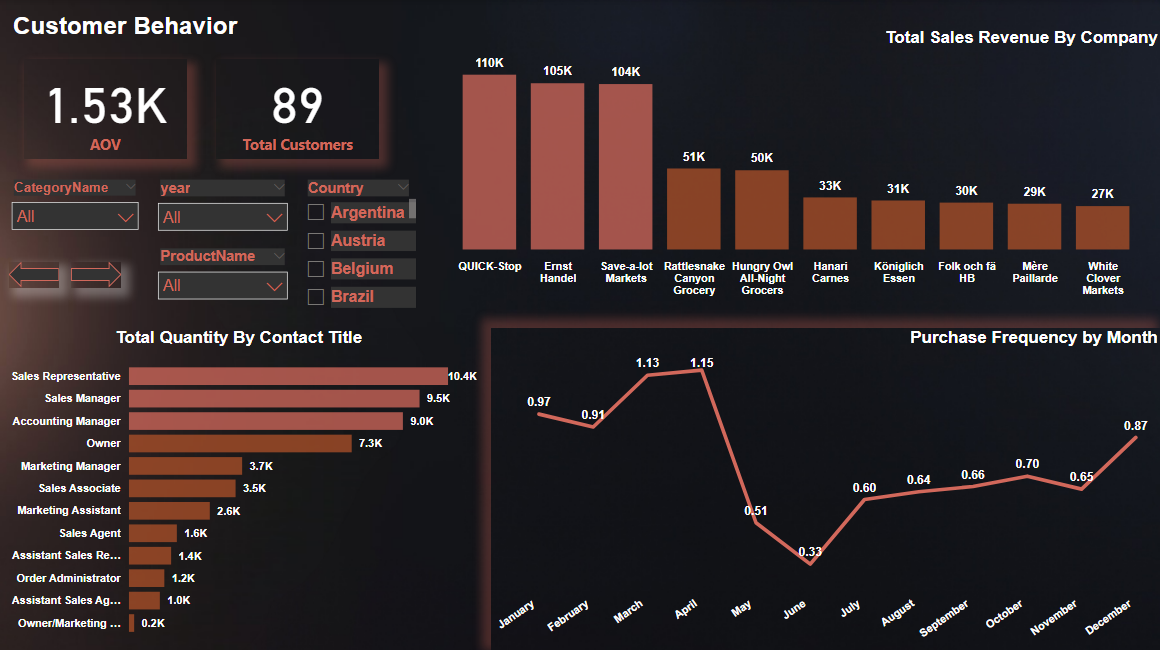

What the dashboard file says about the page in this screenshot:
{"tool":"powerbi","page":{"name":"Customer","canvas":[1280,720],"ordinal":1},"visuals":[{"type":"columnChart","title":"Total Sales Revenue By Company ","fields":{"Category":["Customers.CompanyName"],"Y":["Orders.Total Sales Revenue by company"]},"box":[466.1,31.4,813.9,303.6],"z":0},{"type":"card","fields":{"Values":["Count(Orders.CustomerID)"]},"box":[240.9,65.6,179.6,109.8],"z":1000},{"type":"clusteredBarChart","title":"Total Quantity By Contact Title","fields":{"Y":["Sum(OrdersDetails.Quantity)"],"Category":["Customers.ContactTitle"]},"box":[0,360.6,533.1,349.2],"z":2000},{"type":"textbox","box":[14.3,10,272.2,42.8],"z":3000},{"type":"card","fields":{"Values":["OrdersDetails.Average Order Value"]},"box":[29.9,65.6,179.6,109.8],"z":4000},{"type":"lineChart","fields":{"Y":["Orders.Purchase Frequency"],"Category":["Calender.Date.Variation.Date Hierarchy.Month"]},"box":[543.1,360.6,736.9,359.2],"z":5000},{"type":"slicer","fields":{"Values":["Product.ProductName"]},"box":[166.8,269.4,162.5,65.6],"z":6000},{"type":"slicer","fields":{"Values":["Categories.CategoryName"]},"box":[7.1,193.9,159.6,65.6],"z":7000},{"type":"slicer","fields":{"Values":["Calender.year"]},"box":[166.8,193.9,162.5,65.6],"z":8000},{"type":"slicer","fields":{"Values":["Customers.Country"]},"box":[329.3,193.9,136.8,151.1],"z":9000},{"type":"shape","box":[14.3,287.9,55.6,28.5],"z":10000},{"type":"shape","box":[82.7,287.9,55.6,28.5],"z":11000}]}

Visuals, with their boxes in screenshot pixels (x1, y1, x2, y2), scaled from the page's 1280x720 canvas onto the 1160x650 screenshot:
"Total Sales Revenue By Company " columnChart: 422, 28, 1159, 302
card - Count(Orders.CustomerID): 218, 59, 381, 158
"Total Quantity By Contact Title" clusteredBarChart: 0, 326, 483, 641
textbox: 13, 9, 260, 48
card - OrdersDetails.Average Order Value: 27, 59, 190, 158
lineChart - Orders.Purchase Frequency x Calender.Date.Variation.Date Hierarchy.Month: 492, 326, 1159, 649
slicer - Product.ProductName: 151, 243, 298, 302
slicer - Categories.CategoryName: 6, 175, 151, 234
slicer - Calender.year: 151, 175, 298, 234
slicer - Customers.Country: 298, 175, 422, 311
shape: 13, 260, 63, 286
shape: 75, 260, 125, 286
